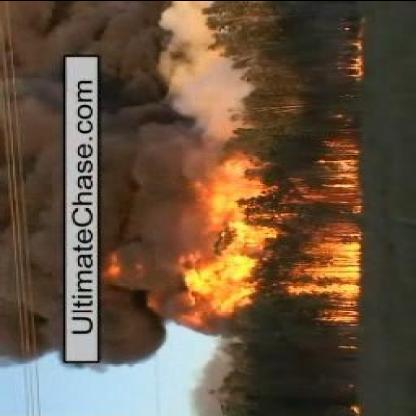-: (103, 51, 167, 355), (9, 66, 59, 362)
foggia-v2-map80-epoch100 - v1 4323: (292, 244, 360, 295)
